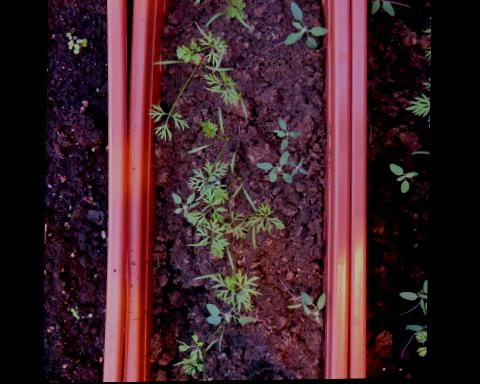weed: (281, 0, 330, 54), (387, 162, 422, 198)
